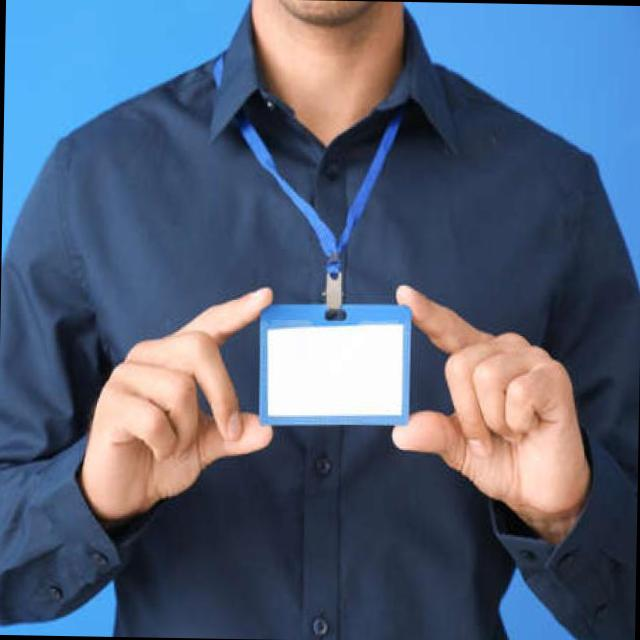id_card: (224, 104, 422, 428)
